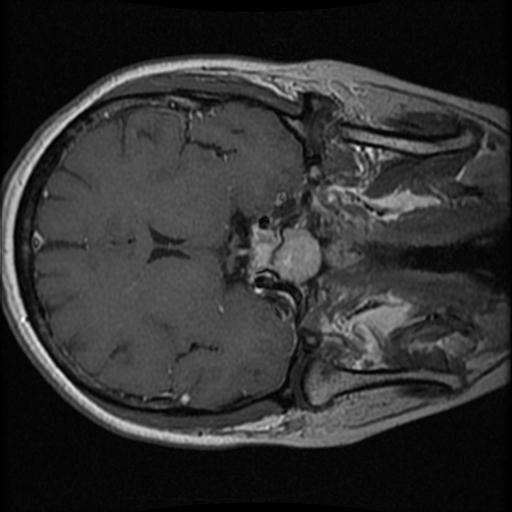pituitary tumour: (246, 227, 280, 272)
